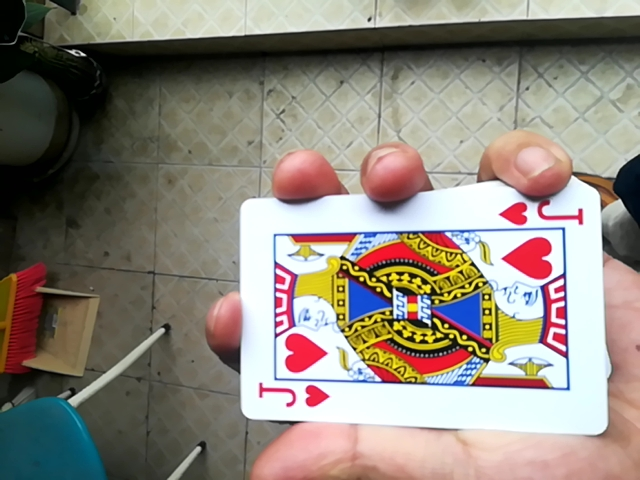hx j: (236, 181, 614, 437)
